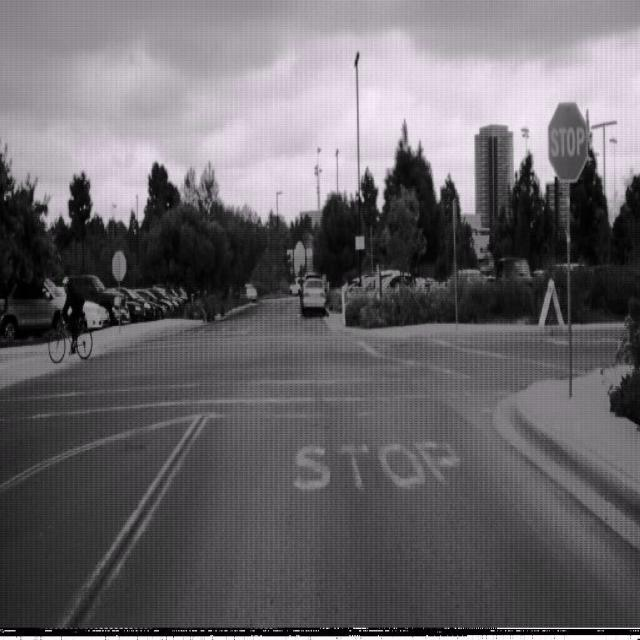stop: (547, 99, 588, 183)
